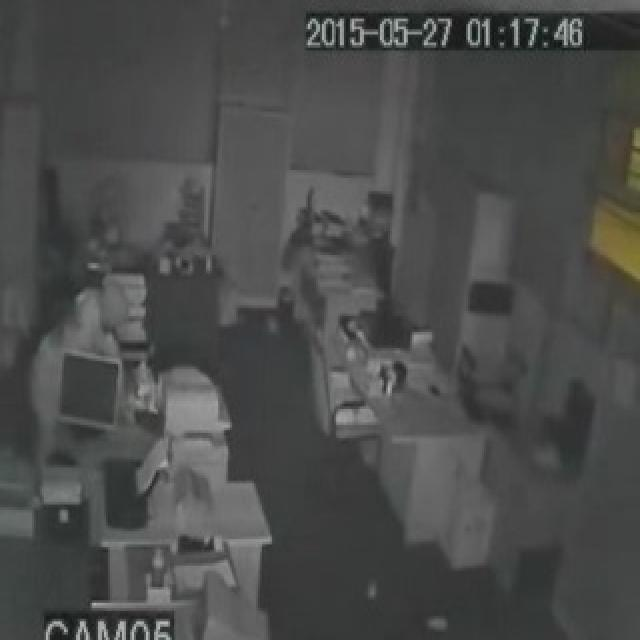thief: (57, 260, 143, 402)
